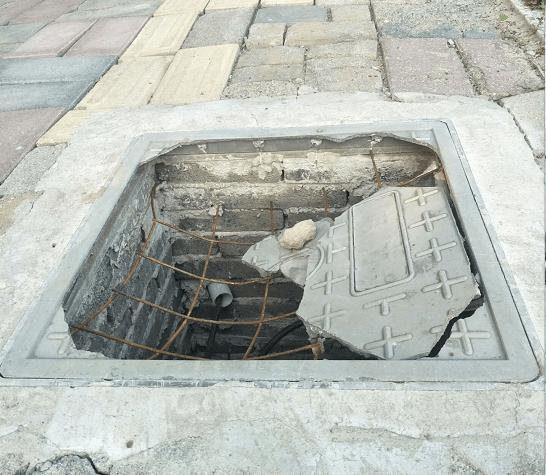broke: (50, 111, 518, 418)
